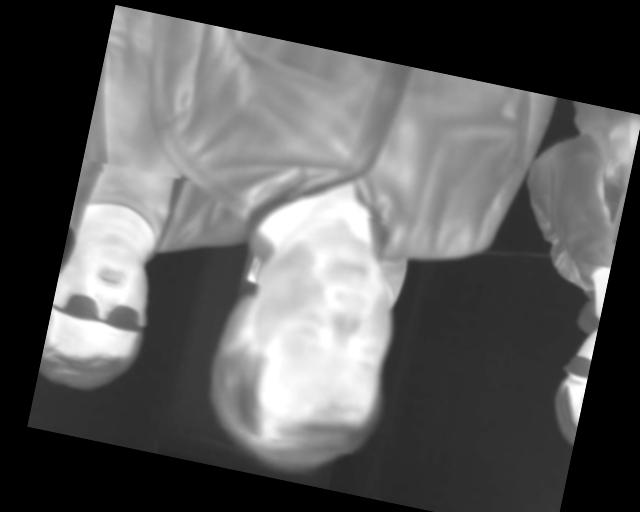face: (194, 205, 418, 487), (36, 229, 166, 404)
